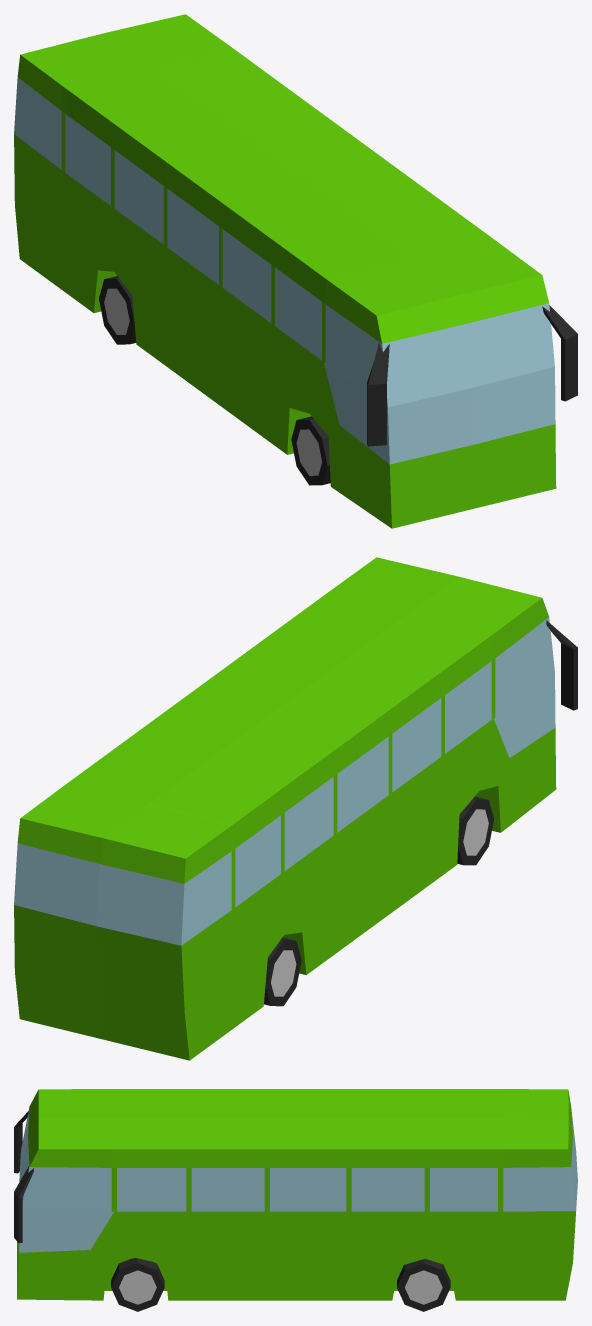
File: midibus_quevedo.glb
3 renders of one model, top to bottom at view 1: azimuth 30°, elevation 25°; view 2: azimuth 150°, elevation 25°; view 3: azimuth 270°, elevation 25°, orthographic. The views are drawn at different scales.
Parts seen in each view (by area): view 1: Bus2; view 2: Bus2; view 3: Bus2.
Boxes of the visible parts, box(x1,y1,x2,y2) form: Bus2: box(14, 14, 577, 528); Bus2: box(14, 557, 577, 1060); Bus2: box(14, 1089, 577, 1311).
Size of the model in its own units: 5.11 by 5.12 by 16.01.
